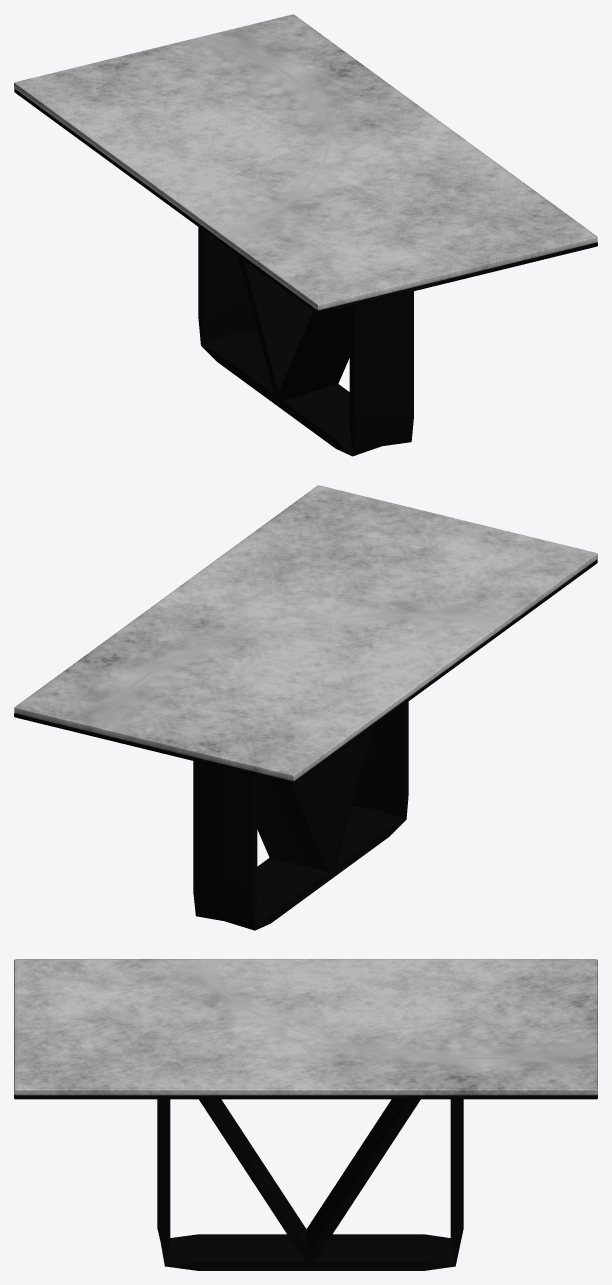
The model's file is dinner_table.fbx.
3 renders of one model, top to bottom at view 1: azimuth 30°, elevation 25°; view 2: azimuth 150°, elevation 25°; view 3: azimuth 270°, elevation 25°, orthographic. The views are drawn at different scales.
Parts seen in each view (by area): view 1: polySurface321; view 2: polySurface321; view 3: polySurface321.
Boxes of the visible parts, <box> form: polySurface321: <box>14,14,597,456</box>; polySurface321: <box>14,485,597,930</box>; polySurface321: <box>14,959,597,1270</box>.
Bounding box in the file's own units: 0.8459 × 0.695 × 1.59.
3 materials, 1 textured.
